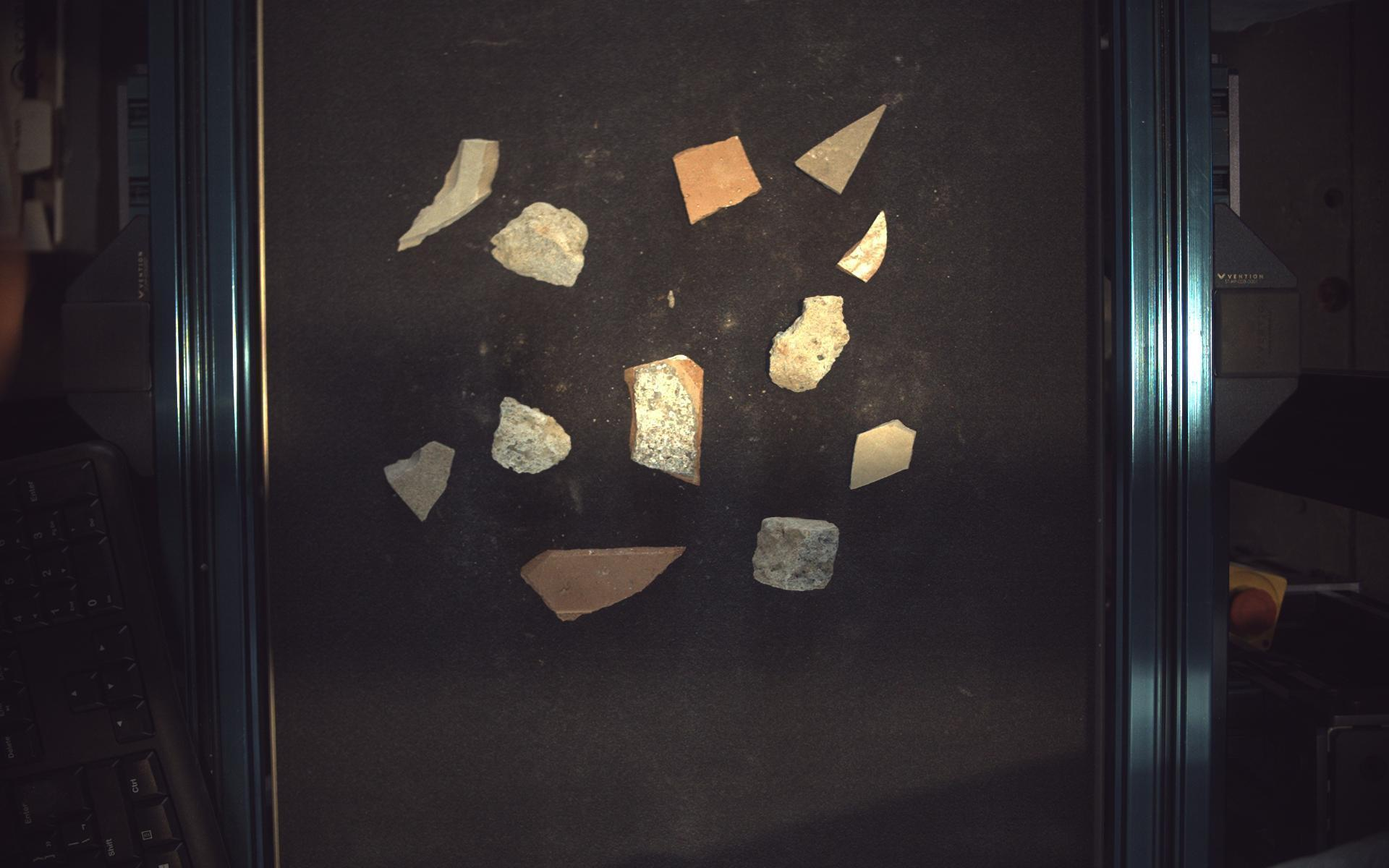brick: (521, 547, 686, 622), (625, 354, 704, 485), (674, 135, 763, 224), (839, 210, 889, 281)
concrete: (491, 202, 589, 286), (770, 296, 851, 392), (754, 517, 840, 592), (493, 397, 572, 474)
tile: (398, 137, 500, 250), (797, 104, 888, 193), (383, 441, 455, 521), (851, 420, 917, 490)
